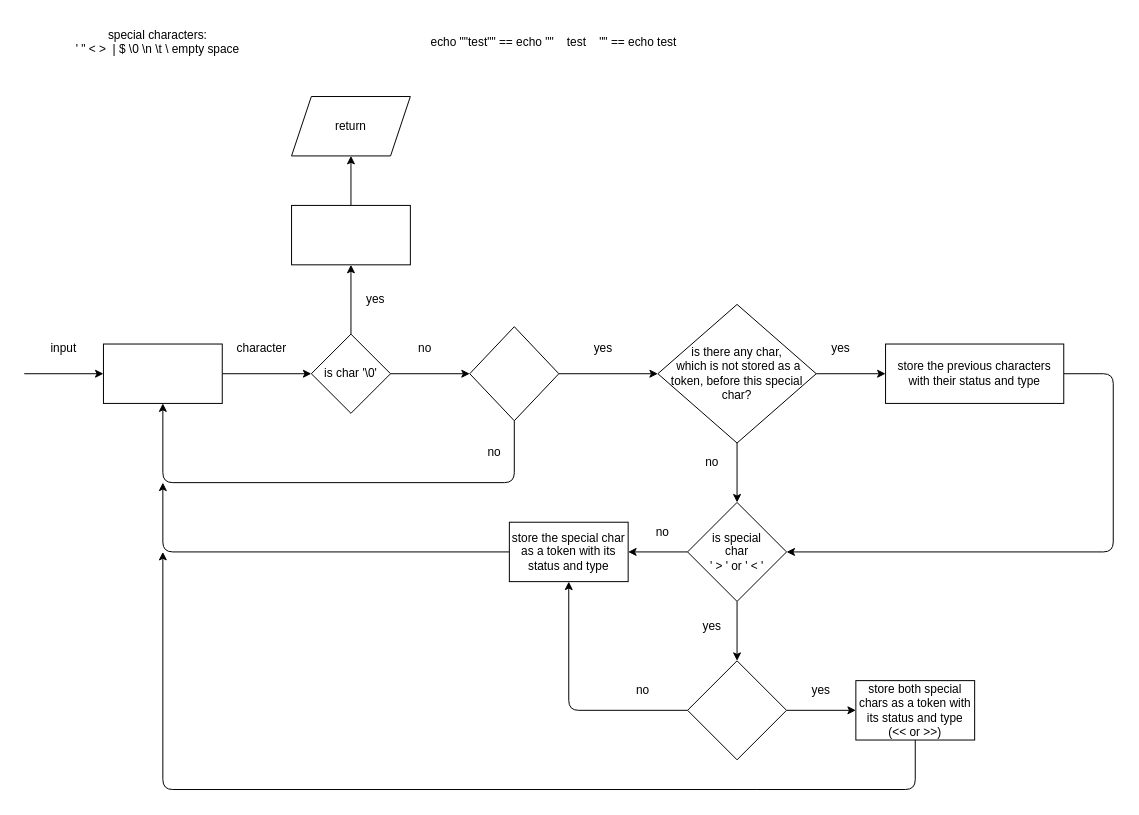
The diagram is 1139 pixels wide and 815 high, and some of its shapes have lost their labels. The shapes that lost their labels are listed below. From the top down, each one's centre as x and y in pixels, then its label:
At pixel 350 234: "store the previous chars as a token".
At pixel 162 373: "get each character".
At pixel 514 373: "if special character?".
At pixel 737 710: "is the next char ' > ' or ' < '".
